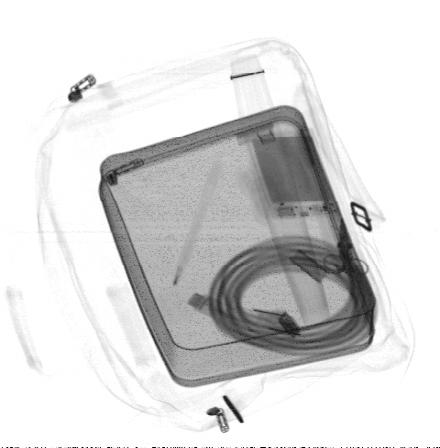Powerbank: (245, 126, 345, 223)
Scissors: (321, 216, 372, 278)
